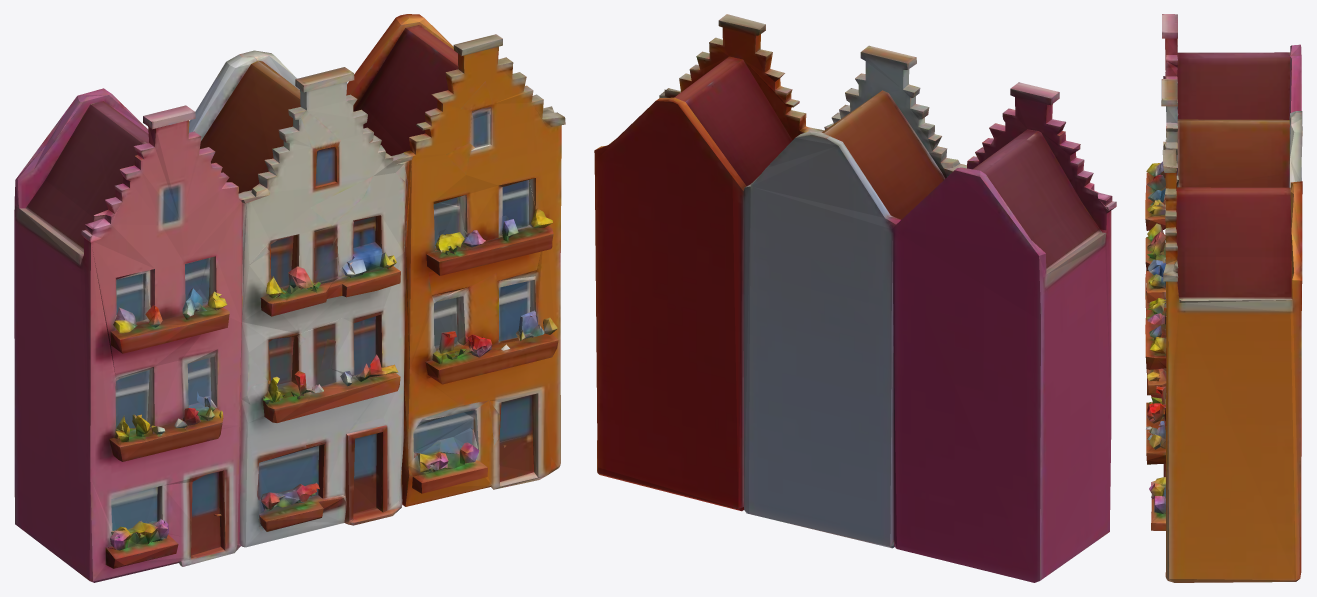
Rendered from b-row2.glb.
The picture shows the model from 3 angles, left to right: view 1: azimuth 30°, elevation 25°; view 2: azimuth 150°, elevation 25°; view 3: azimuth 270°, elevation 25°; orthographic projection. The views are drawn at different scales.
Parts seen in each view (by area): view 1: geometry_0; view 2: geometry_0; view 3: geometry_0.
Part boxes in pixels (left/top/right/bottom): geometry_0: left=14, top=14, right=565, bottom=582; geometry_0: left=594, top=14, right=1116, bottom=582; geometry_0: left=1145, top=14, right=1302, bottom=582.
Bounding box in the file's own units: 0.9985 × 0.9111 × 0.3266.
Materials: 1 (1 with a texture image).
